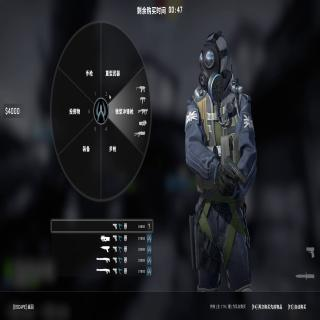CT-Head: (198, 33, 228, 96)
